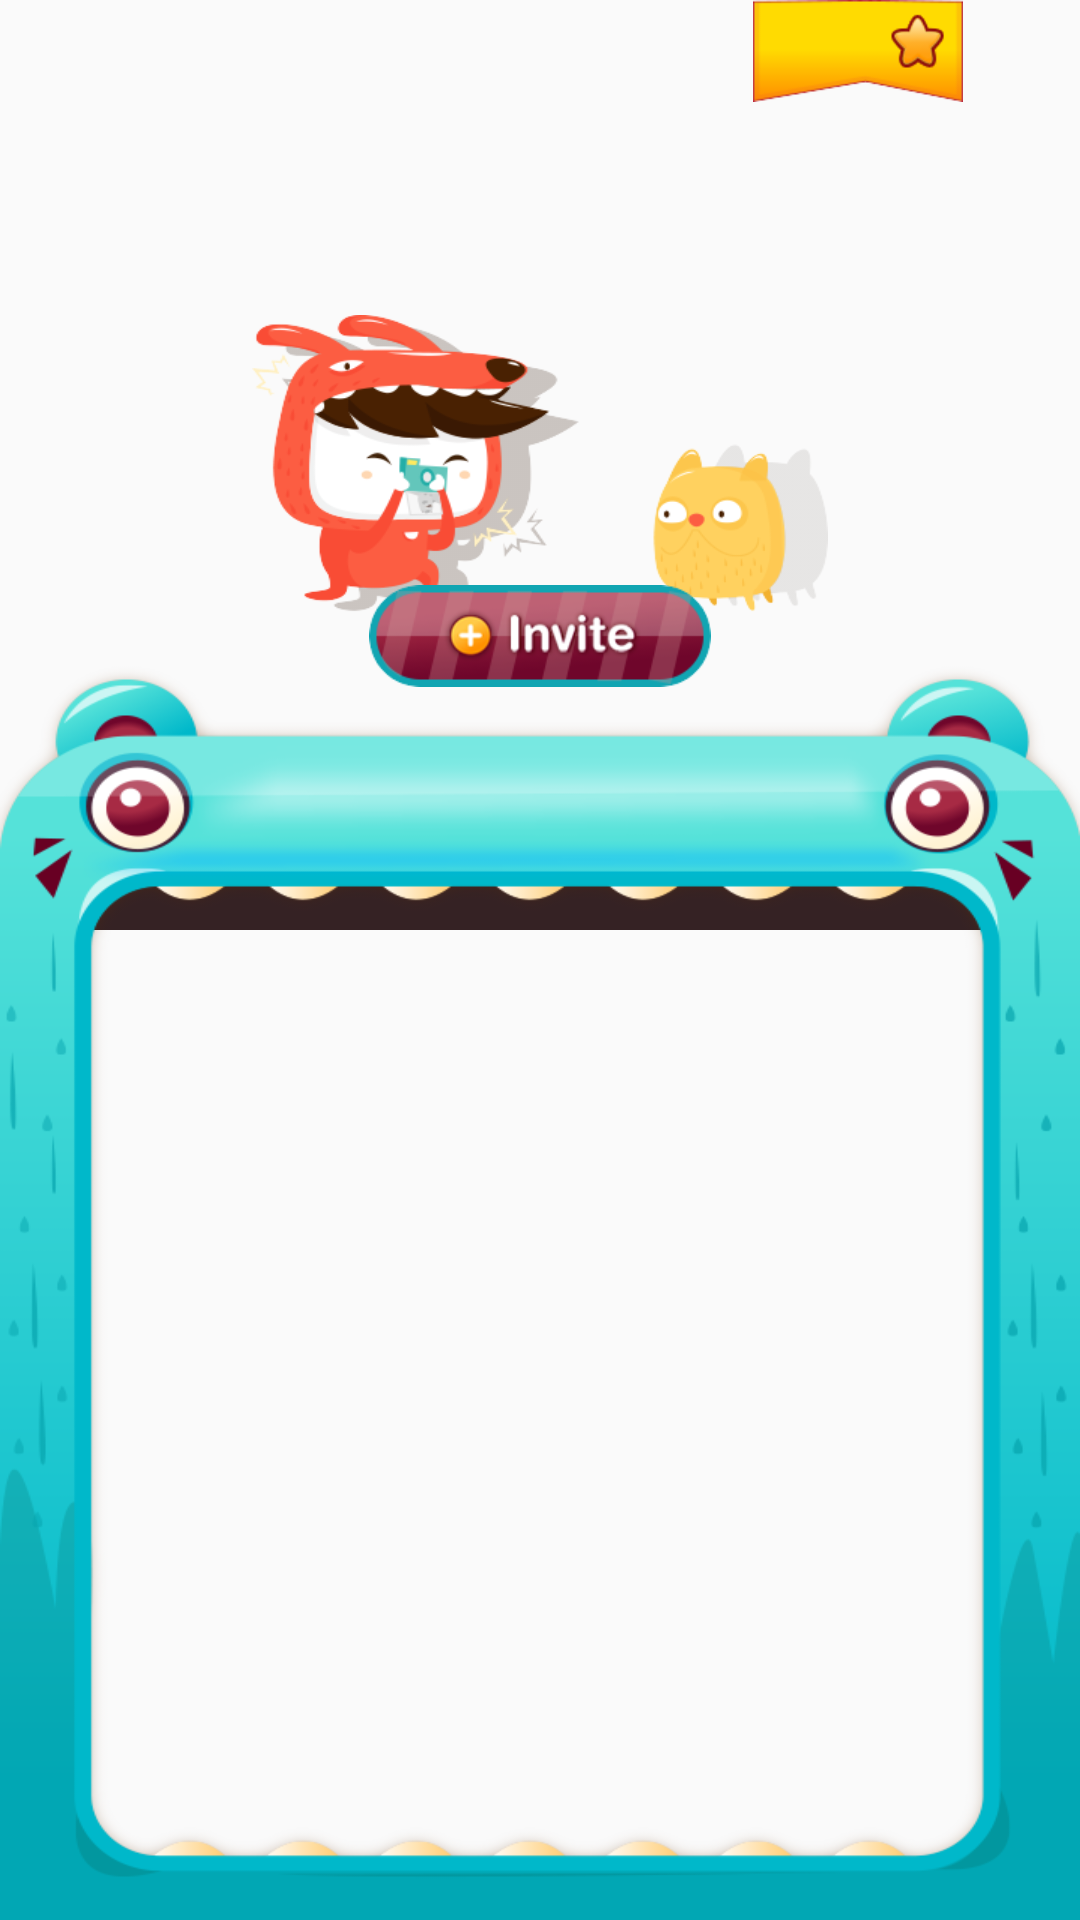

Named icons in this screenshot (1080x1920) and their bounding boxes, (x1, y1, x2, y2):
score: (753, 0, 963, 102)
